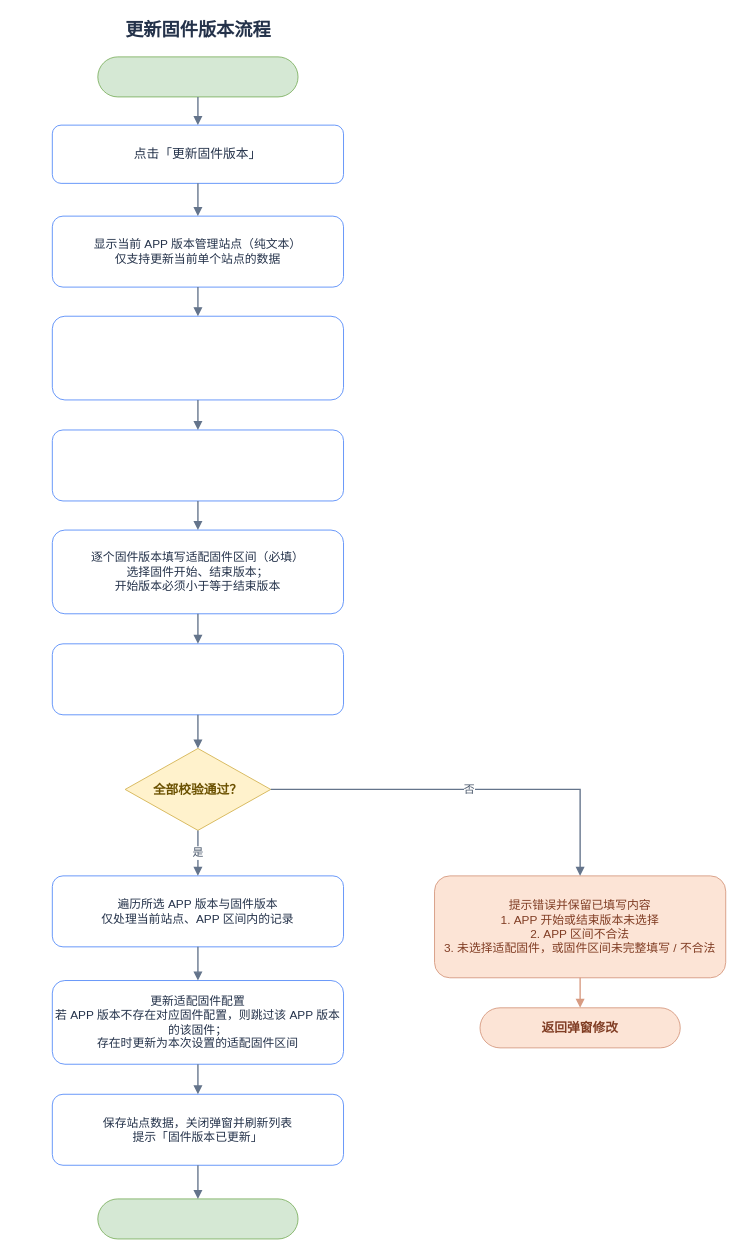
Image size: 742x1255. Some labels were removed from this diagram. Each missing label, with the centre of its shape:
填写 APP 版本区间（必填） 从当前站点已有 APP 版本选择开始、结束版本； 开始版本必须小于等于结束版本: (197,357)
完成: (197,1218)
开始: (197,76)
点击提交，统一校验 APP 区间、已选固件版本及各固件适配区间: (197,679)
选择需更新的固件版本（至少一个） Gen1、Gen2、Gen2 Air、Gen3、行业版: (197,465)
